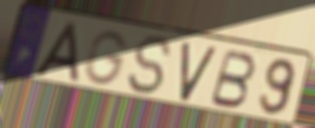9: (258, 57, 298, 118)
A: (31, 21, 81, 85)
B: (207, 47, 258, 110)
G: (83, 29, 131, 88)
S: (125, 33, 174, 97)
V: (178, 41, 219, 104)
